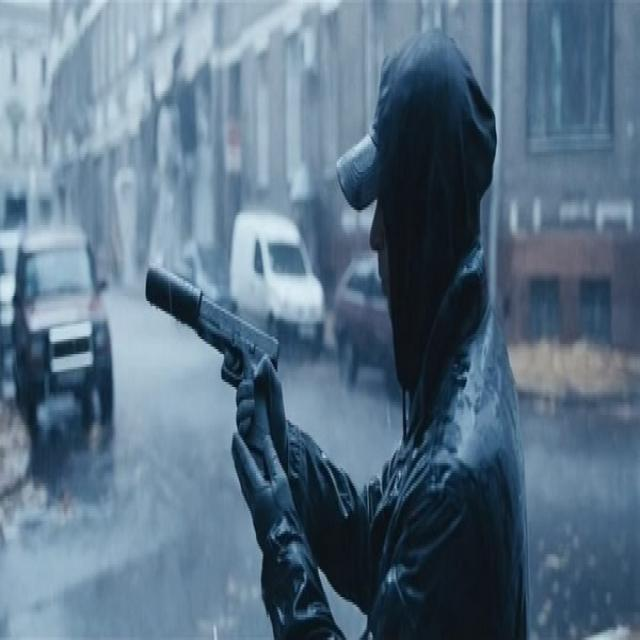weapons: (125, 236, 292, 491)
